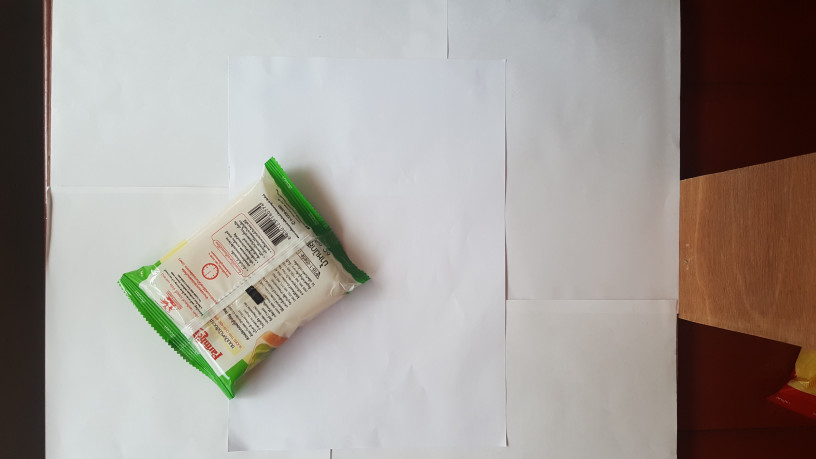farmhouse-bread-pandan: (112, 154, 376, 404)
